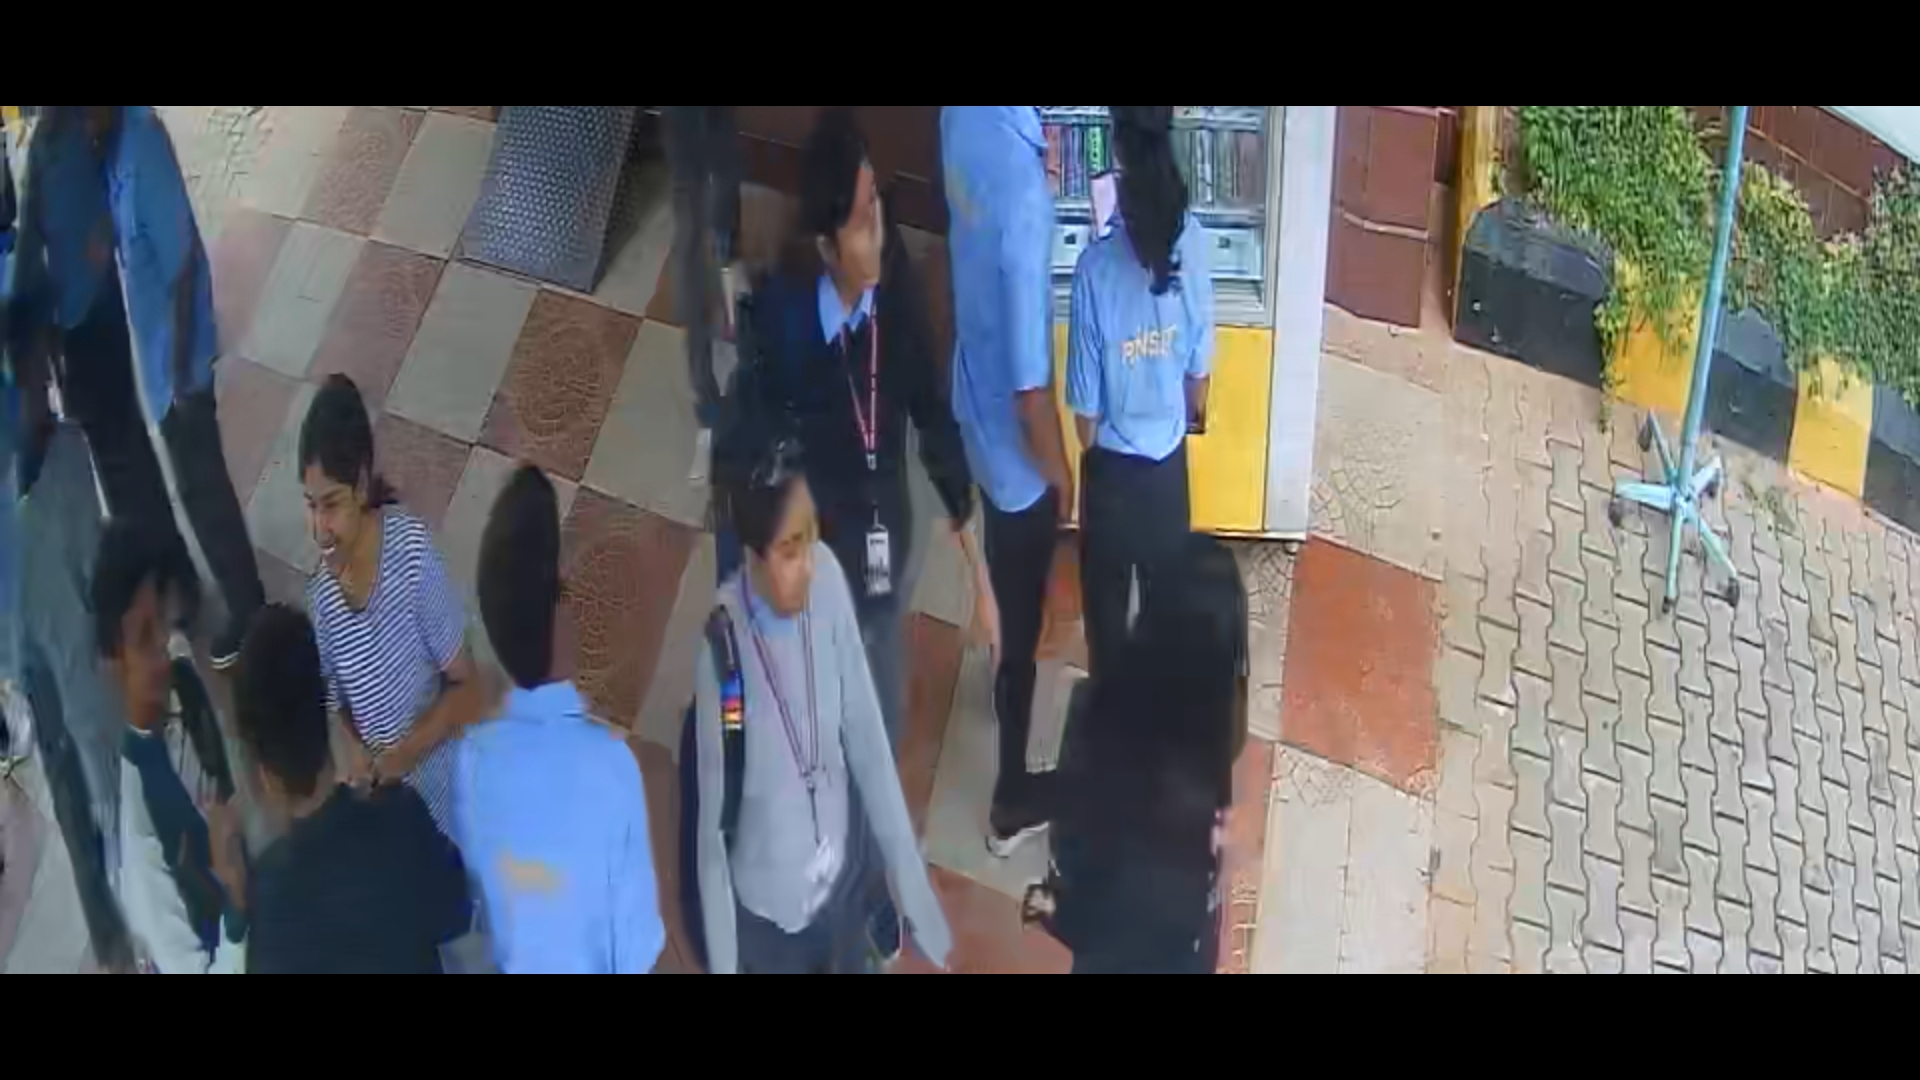intruder: (274, 365, 516, 818)
not intruder: (687, 447, 935, 963), (736, 131, 940, 717)
